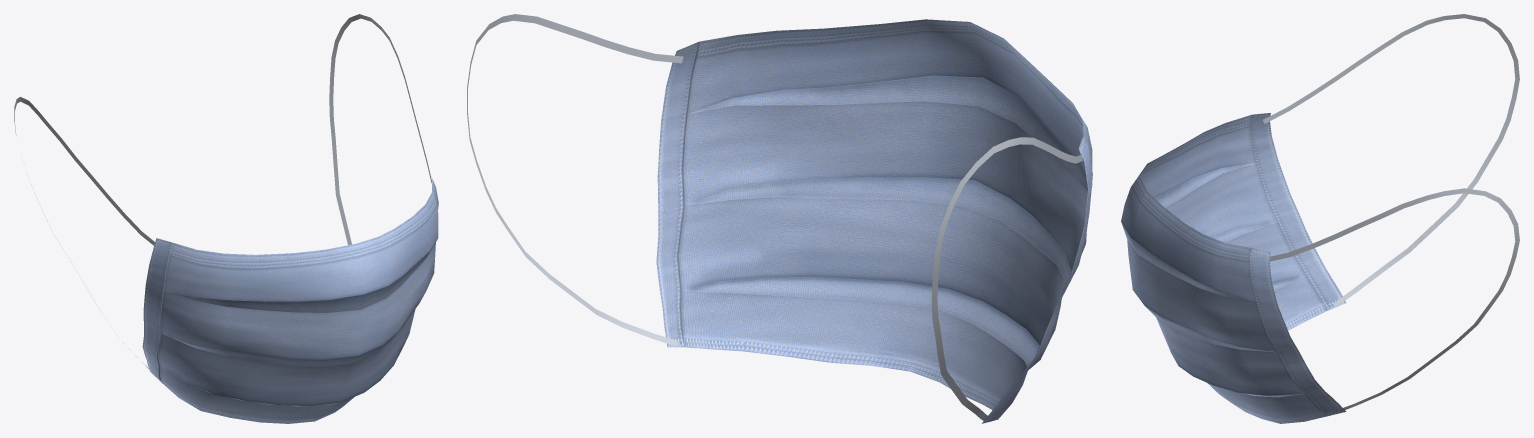
Rendered from taoabocas.glb.
3 renders of one model, left to right at view 1: azimuth 30°, elevation 25°; view 2: azimuth 150°, elevation 25°; view 3: azimuth 270°, elevation 25°, orthographic. The views are drawn at different scales.
Visible parts, largest first — view 1: TAPA_BOCAS; view 2: TAPA_BOCAS; view 3: TAPA_BOCAS.
Boxes of the visible parts, box(x1,y1,x2,y2) form: TAPA_BOCAS: box(14, 14, 438, 423); TAPA_BOCAS: box(467, 14, 1092, 423); TAPA_BOCAS: box(1121, 14, 1519, 423).
Bounding box in the file's own units: 0.1625 × 0.1254 × 0.1558.
Materials: 1 (1 with a texture image).
